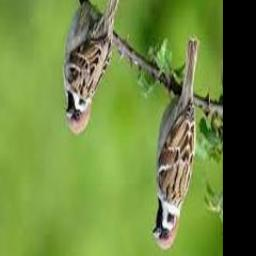Sparrow: (154, 37, 199, 251), (64, 0, 123, 136)
